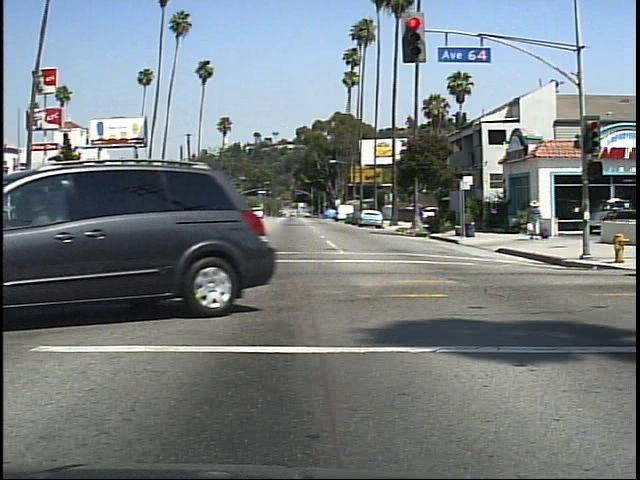person: (525, 195, 549, 248)
